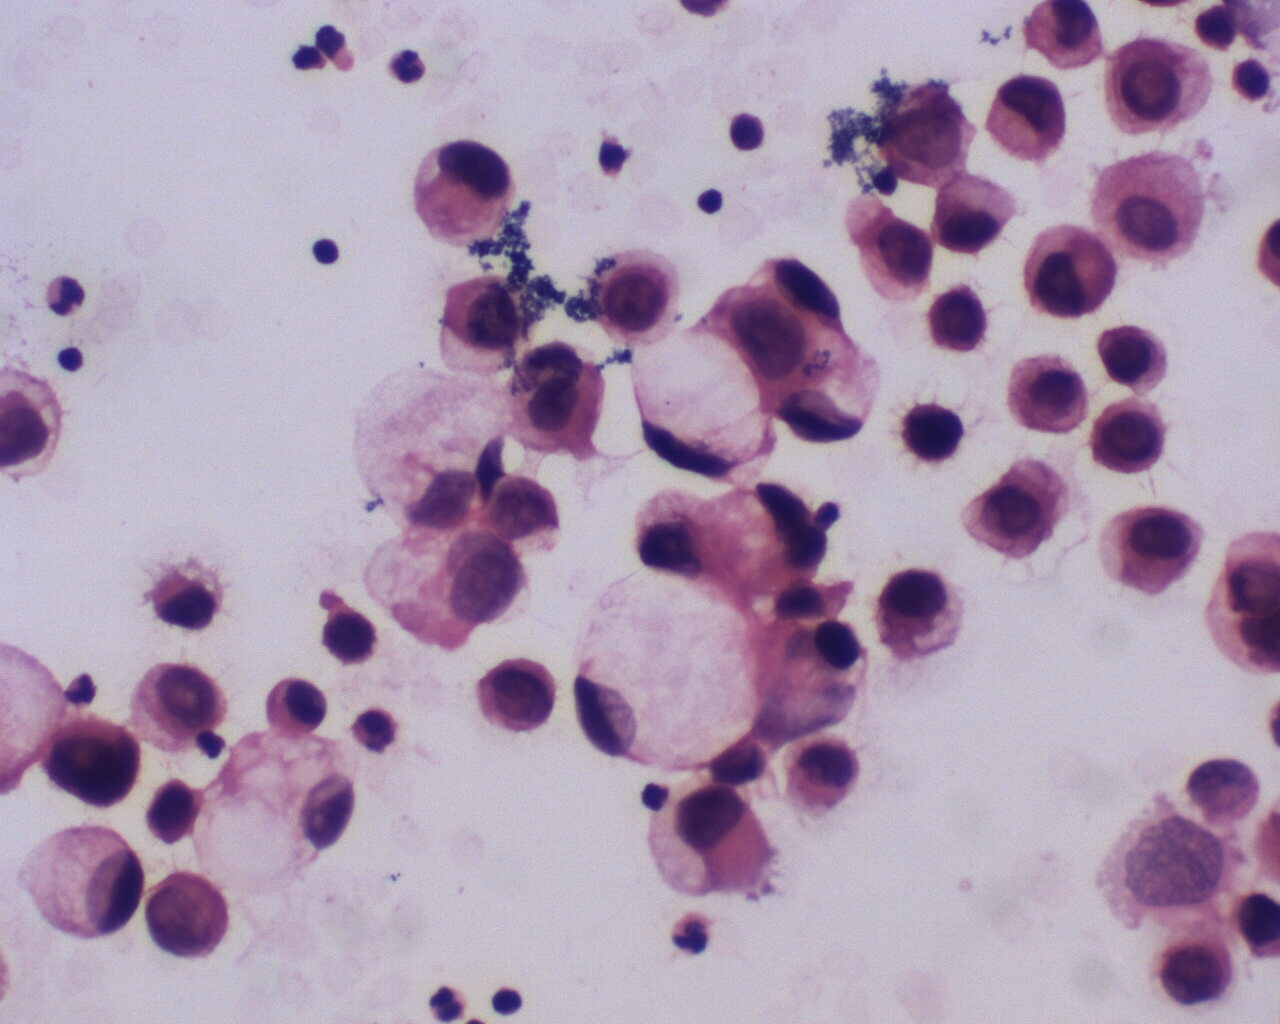ab: (195, 738, 360, 901), (359, 517, 523, 656), (1106, 33, 1219, 140), (845, 192, 937, 310), (870, 562, 965, 668), (1022, 220, 1119, 323), (38, 716, 141, 808), (134, 661, 228, 762), (986, 70, 1077, 170), (140, 870, 235, 965), (433, 275, 526, 369), (590, 252, 677, 348), (927, 172, 1018, 259), (1151, 933, 1244, 1014), (468, 654, 556, 738), (1091, 392, 1167, 474), (1096, 325, 1174, 393), (928, 283, 994, 359)
histo: (572, 565, 768, 778), (616, 327, 778, 484), (23, 819, 142, 942), (408, 137, 516, 253)
lymph: (721, 108, 772, 156), (309, 231, 342, 269), (694, 186, 730, 216)
meso: (1094, 147, 1205, 270), (1093, 505, 1207, 598), (261, 674, 327, 740)
neutro: (43, 274, 93, 318), (671, 909, 711, 958), (386, 44, 430, 87)
